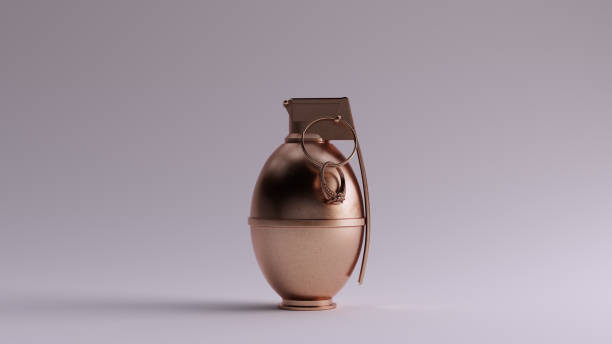e1: (247, 96, 373, 314)
